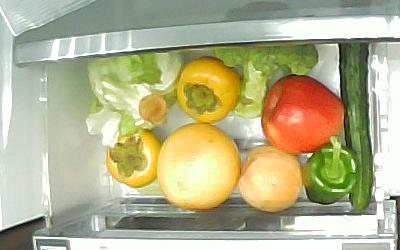apple: (261, 73, 344, 153)
broccoli: (210, 41, 318, 118)
cucumber: (337, 41, 373, 213)
grapefruit: (156, 122, 242, 210)
lettuce: (82, 51, 183, 147)
paprika: (302, 135, 359, 204)
peach: (238, 145, 304, 213)
persimmon: (176, 56, 241, 124), (105, 130, 166, 188)
